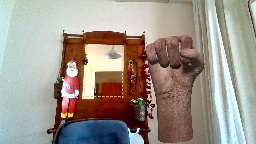Pugno: (143, 35, 206, 95)
